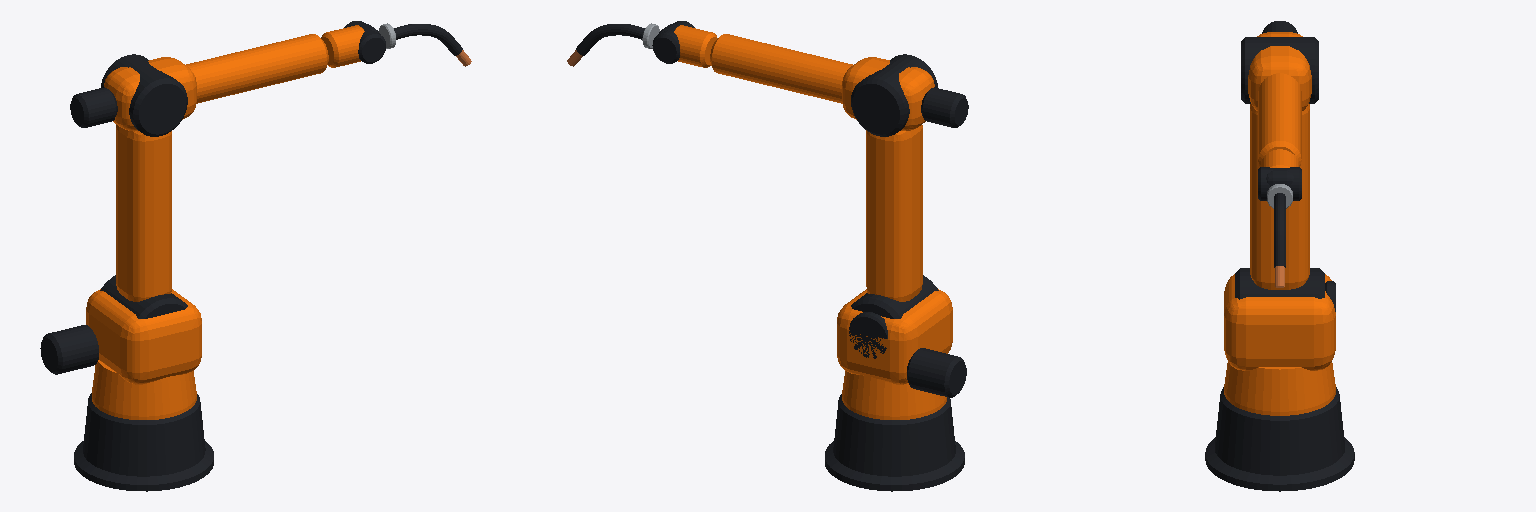
The robot description file, URDF, robot "standin-6axis":
<?xml version="1.0"?>
<!--
  생성 파일(digital-twin/assets/gen/make_robot.py). 직접 고치지 않는다.
  대역 6축 용접 로봇(spec 7절). 실제 기종이 정해지면 같은 관절 이름(joint_1~joint_6)으로 교체한다.
  좌표: Z-up, m. 관절 0°: 상완 수직, 전완 +X 수평.
-->
<robot name="standin-6axis">
  <material name="body"><color rgba="0.95 0.48 0.08 1"/></material>
  <material name="dark"><color rgba="0.16 0.17 0.19 1"/></material>
  <material name="steel"><color rgba="0.62 0.64 0.66 1"/></material>
  <material name="copper"><color rgba="0.80 0.48 0.28 1"/></material>

  <link name="base_link">
    <visual>
      <geometry><mesh filename="meshes/base_link_dark.stl"/></geometry>
      <material name="dark"/>
    </visual>
  </link>

  <link name="link_1">
    <visual>
      <geometry><mesh filename="meshes/link_1_body.stl"/></geometry>
      <material name="body"/>
    </visual>
    <visual>
      <geometry><mesh filename="meshes/link_1_dark.stl"/></geometry>
      <material name="dark"/>
    </visual>
  </link>

  <link name="link_2">
    <visual>
      <geometry><mesh filename="meshes/link_2_body.stl"/></geometry>
      <material name="body"/>
    </visual>
    <visual>
      <geometry><mesh filename="meshes/link_2_dark.stl"/></geometry>
      <material name="dark"/>
    </visual>
  </link>

  <link name="link_3">
    <visual>
      <geometry><mesh filename="meshes/link_3_body.stl"/></geometry>
      <material name="body"/>
    </visual>
    <visual>
      <geometry><mesh filename="meshes/link_3_dark.stl"/></geometry>
      <material name="dark"/>
    </visual>
  </link>

  <link name="link_4">
    <visual>
      <geometry><mesh filename="meshes/link_4_body.stl"/></geometry>
      <material name="body"/>
    </visual>
  </link>

  <link name="link_5">
    <visual>
      <geometry><mesh filename="meshes/link_5_dark.stl"/></geometry>
      <material name="dark"/>
    </visual>
  </link>

  <link name="link_6">
    <visual>
      <geometry><mesh filename="meshes/link_6_steel.stl"/></geometry>
      <material name="steel"/>
    </visual>
  </link>

  <link name="torch">
    <visual>
      <geometry><mesh filename="meshes/torch_copper.stl"/></geometry>
      <material name="copper"/>
    </visual>
    <visual>
      <geometry><mesh filename="meshes/torch_dark.stl"/></geometry>
      <material name="dark"/>
    </visual>
  </link>

  <joint name="joint_1" type="revolute">
    <parent link="base_link"/><child link="link_1"/>
    <origin xyz="0 0 0.2"/><axis xyz="0 0 1"/>
    <limit lower="-2.967" upper="2.967" effort="100" velocity="2"/>
  </joint>
  <joint name="joint_2" type="revolute">
    <parent link="link_1"/><child link="link_2"/>
    <origin xyz="0 0 0.25"/><axis xyz="0 1 0"/>
    <limit lower="-1.571" upper="2.356" effort="100" velocity="2"/>
  </joint>
  <joint name="joint_3" type="revolute">
    <parent link="link_2"/><child link="link_3"/>
    <origin xyz="0 0 0.7"/><axis xyz="0 1 0"/>
    <limit lower="-2.356" upper="1.571" effort="100" velocity="2"/>
  </joint>
  <joint name="joint_4" type="revolute">
    <parent link="link_3"/><child link="link_4"/>
    <origin xyz="0.6 0 0"/><axis xyz="1 0 0"/>
    <limit lower="-3.316" upper="3.316" effort="50" velocity="3"/>
  </joint>
  <joint name="joint_5" type="revolute">
    <parent link="link_4"/><child link="link_5"/>
    <origin xyz="0.12 0 0"/><axis xyz="0 1 0"/>
    <limit lower="-2.181" upper="2.181" effort="50" velocity="3"/>
  </joint>
  <joint name="joint_6" type="revolute">
    <parent link="link_5"/><child link="link_6"/>
    <origin xyz="0.07 0 0"/><axis xyz="1 0 0"/>
    <limit lower="-6.283" upper="6.283" effort="20" velocity="4"/>
  </joint>
  <joint name="tool_joint" type="fixed">
    <parent link="link_6"/><child link="torch"/>
    <origin xyz="0.02 0 0"/>
  </joint>
</robot>

--- What the picture shows (computed from the rendered views, not written in the file) ---
Views: 3 orthographic renders of the robot side by side, from view 1: azimuth 30°, elevation 25°; view 2: azimuth 150°, elevation 25°; view 3: azimuth 270°, elevation 25°.
Robot: standin-6axis — 8 links, 7 joints (6 revolute, 1 fixed); root link base_link; default pose: all joints at 0.
Visible links, largest first — view 1: link_1, link_3, link_2, base_link, link_4, torch, link_5; view 2: link_3, link_2, link_1, base_link, link_4, torch, link_5; view 3: link_1, base_link, link_3, link_2, torch, link_5, link_4.
Link boxes in pixels (box(x1,y1,x2,y2)): link_1: box(40, 289, 201, 419); link_3: box(70, 34, 328, 136); link_2: box(100, 124, 187, 318); base_link: box(74, 393, 213, 491); link_4: box(321, 25, 364, 67); torch: box(394, 24, 471, 66); link_5: box(344, 21, 385, 63); link_3: box(710, 34, 968, 136); link_2: box(849, 125, 938, 358); link_1: box(837, 289, 966, 419); base_link: box(825, 394, 964, 491); link_4: box(674, 25, 717, 67); torch: box(567, 24, 644, 66); link_5: box(652, 21, 694, 63); link_1: box(1224, 274, 1335, 415); base_link: box(1205, 387, 1354, 491); link_3: box(1241, 21, 1318, 166); link_2: box(1235, 104, 1335, 311); torch: box(1274, 193, 1285, 287); link_5: box(1258, 167, 1301, 200); link_4: box(1261, 149, 1298, 167).
Size in the robot's own frame: 1.33 by 0.4 by 1.24 metres.
Meshes: 12 distinct files referenced, 12 mesh visuals loaded (12 binary STL).
